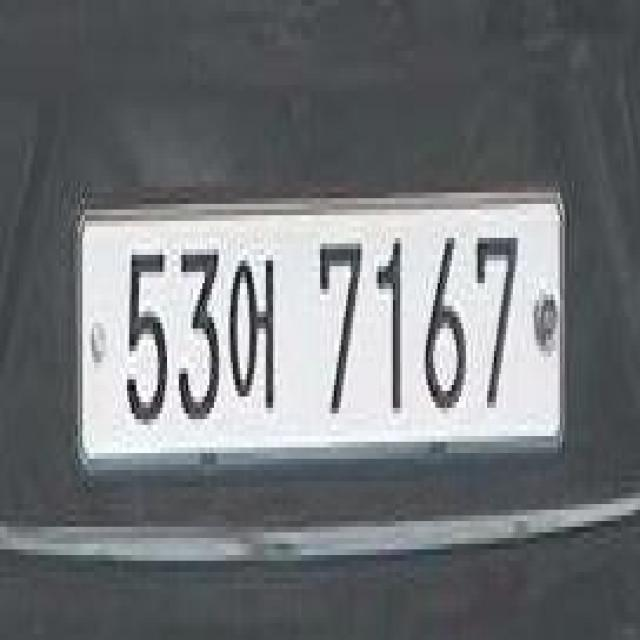1: (372, 239, 410, 417)
3: (178, 237, 222, 427)
5: (125, 242, 173, 434)
6: (414, 232, 467, 420)
7: (310, 231, 366, 417), (470, 228, 522, 414)
eo: (227, 251, 283, 424)
license_plate: (62, 172, 576, 472)
